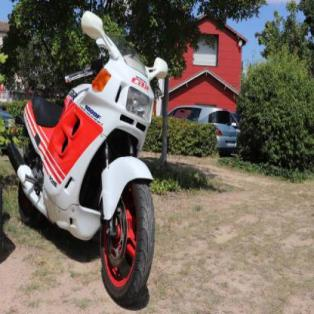Motocicleta: (9, 11, 167, 311)
